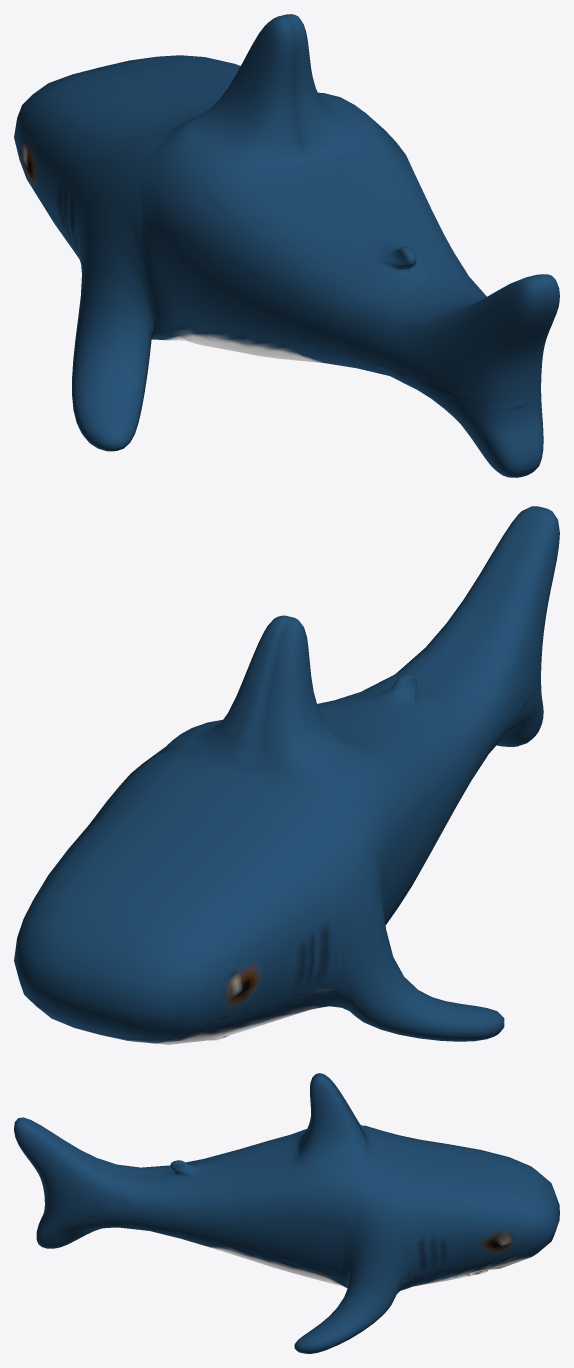
Rendered from blahaj.glb.
3 views of the same model, one above another, from view 1: azimuth 30°, elevation 25°; view 2: azimuth 150°, elevation 25°; view 3: azimuth 270°, elevation 25° (orthographic). The views are drawn at different scales.
Visible parts, largest first — view 1: Object_2; view 2: Object_2; view 3: Object_2.
Part boxes in pixels (box(x1,y1,x2,y2)): Object_2: box(14, 14, 559, 477); Object_2: box(14, 506, 559, 1044); Object_2: box(14, 1073, 559, 1353).
Bounding box in the file's own units: 2.38 × 2.08 × 4.61.
1 material, 1 textured.
